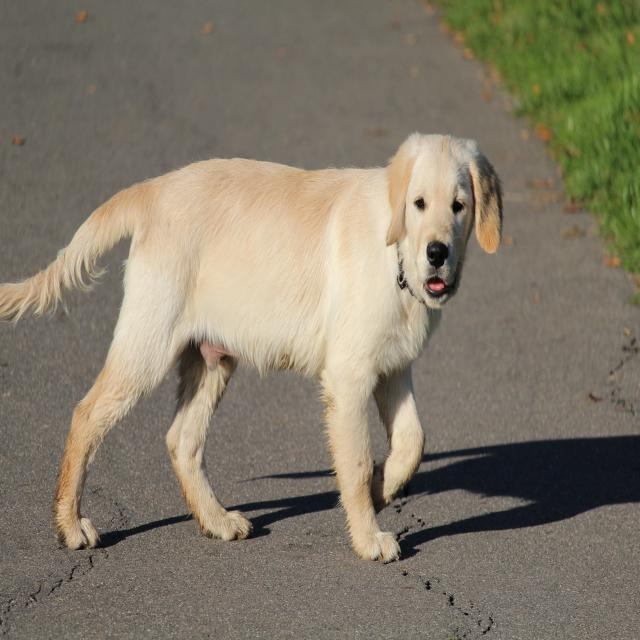dog: (1, 134, 502, 565)
